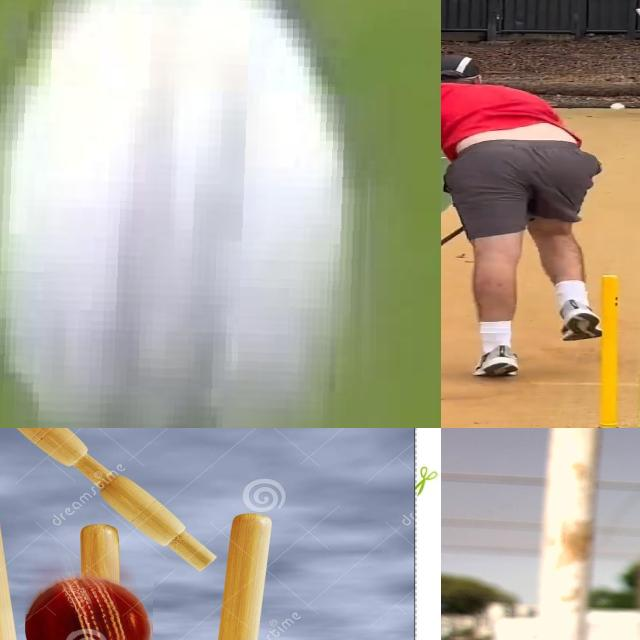Cricket ball: (0, 0, 377, 428), (25, 573, 153, 640), (609, 102, 626, 112)
Stumps: (0, 489, 278, 640), (583, 271, 640, 428)
